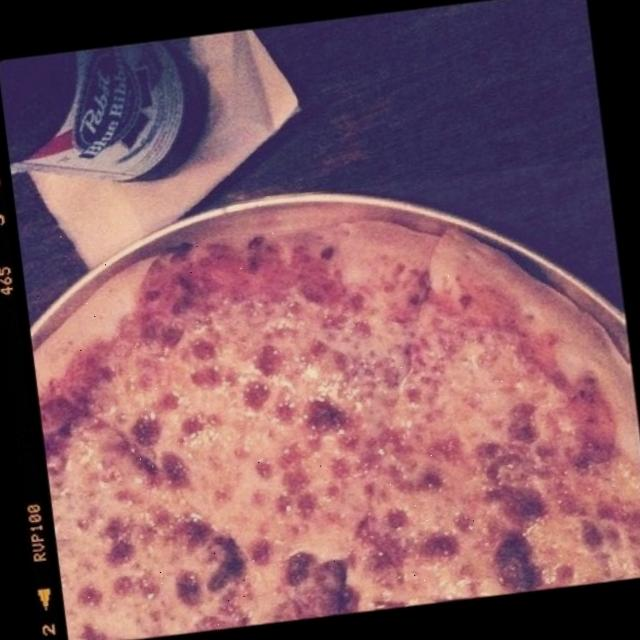cheese: (97, 316, 477, 630)
pizza: (32, 194, 640, 640)
